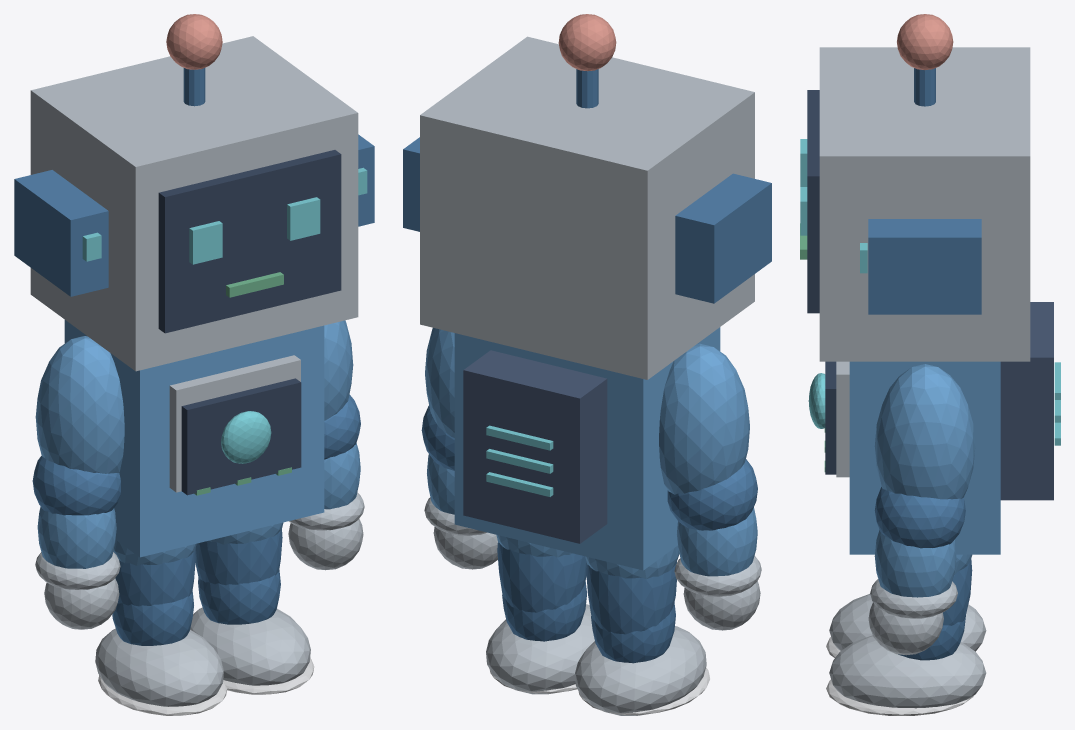
File: avatar_ai_it_v2.glb
3 renders of one model, left to right at view 1: azimuth 30°, elevation 25°; view 2: azimuth 150°, elevation 25°; view 3: azimuth 270°, elevation 25°, orthographic. The views are drawn at different scales.
Parts seen in each view (by area): view 1: head_shell, body_core, face_screen, L_sleeve_upper, ear_port_-0.49, chest_display, L_shoe, R_shoe, chest_plate, L_sleeve_lower, L_elbow, R_leg (+21 smaller); view 2: head_shell, server_pack, body_core, L_sleeve_upper, ear_port_-0.49, L_shoe, R_shoe, L_leg, R_leg, L_elbow, L_sleeve_lower, R_sleeve_upper (+17 smaller); view 3: head_shell, body_core, R_sleeve_upper, ear_port_0.49, server_pack, R_shoe, R_elbow, R_sleeve_lower, face_screen, antenna_beacon, R_hand, L_shoe (+8 smaller).
Boxes of the visible parts, bbox=[...] form: head_shell: bbox=[30, 36, 358, 371]; body_core: bbox=[64, 320, 324, 557]; face_screen: bbox=[158, 150, 341, 333]; L_sleeve_upper: bbox=[35, 336, 124, 473]; ear_port_-0.49: bbox=[14, 170, 108, 296]; chest_display: bbox=[181, 378, 301, 495]; L_shoe: bbox=[95, 628, 223, 706]; R_shoe: bbox=[190, 607, 310, 685]; chest_plate: bbox=[169, 355, 300, 492]; L_sleeve_lower: bbox=[37, 506, 116, 568]; L_elbow: bbox=[32, 456, 120, 515]; R_leg: bbox=[195, 529, 282, 585]; head_shell: bbox=[420, 36, 754, 379]; server_pack: bbox=[463, 350, 607, 543]; body_core: bbox=[454, 327, 720, 570]; L_sleeve_upper: bbox=[659, 343, 749, 494]; ear_port_-0.49: bbox=[675, 173, 771, 303]; L_shoe: bbox=[575, 626, 706, 715]; R_shoe: bbox=[486, 604, 594, 694]; L_leg: bbox=[586, 562, 676, 634]; R_leg: bbox=[497, 542, 586, 612]; L_elbow: bbox=[667, 459, 757, 530]; L_sleeve_lower: bbox=[677, 507, 757, 576]; R_sleeve_upper: bbox=[425, 328, 454, 437]; head_shell: bbox=[819, 47, 1030, 361]; body_core: bbox=[849, 361, 1000, 554]; R_sleeve_upper: bbox=[874, 364, 975, 499]; ear_port_0.49: bbox=[868, 219, 981, 314]; server_pack: bbox=[1000, 302, 1053, 500]; R_shoe: bbox=[829, 635, 986, 708]; R_elbow: bbox=[874, 487, 965, 548]; R_sleeve_lower: bbox=[874, 530, 956, 597]; face_screen: bbox=[807, 90, 819, 313]; antenna_beacon: bbox=[897, 14, 953, 69]; R_hand: bbox=[868, 602, 943, 655]; L_shoe: bbox=[829, 594, 986, 651].
Bounding box in the file's own units: 1.17 × 2.35 × 0.8295.
